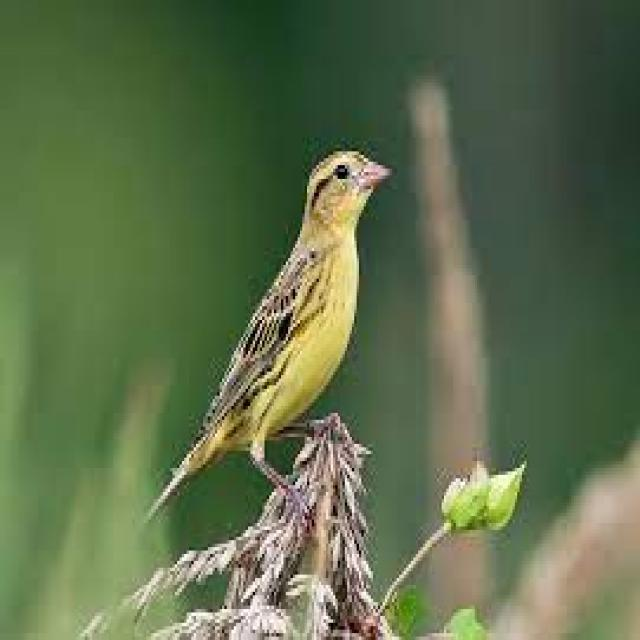bird: (158, 144, 398, 512)
